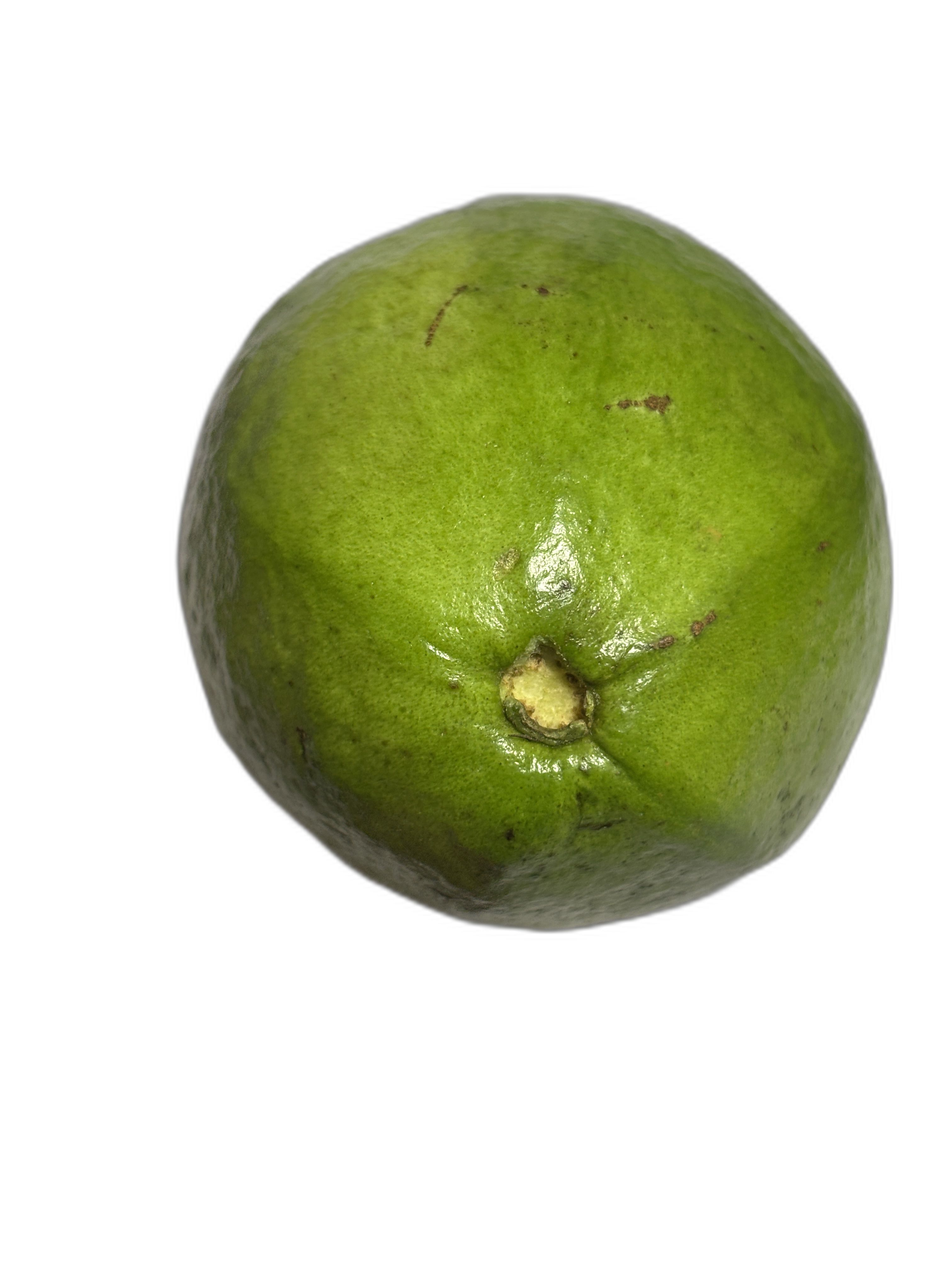guava: (175, 166, 894, 1161)
